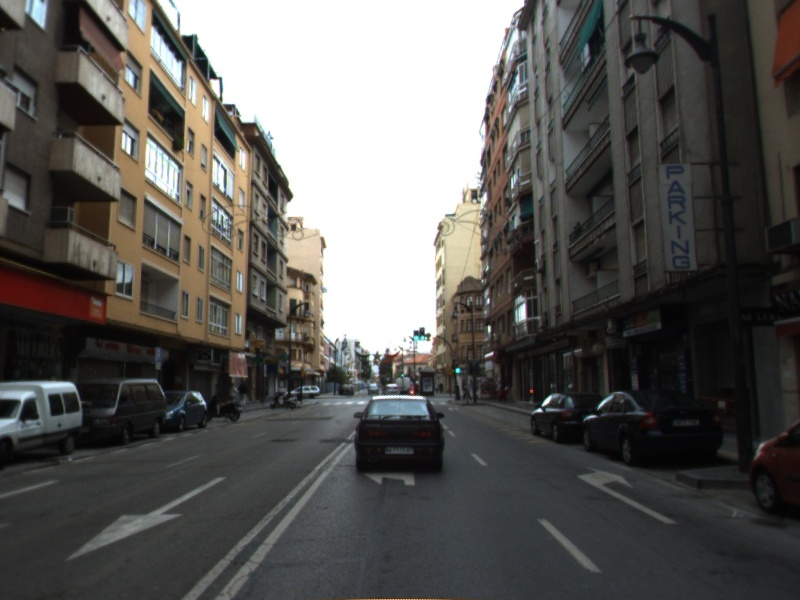RIGHT: (575, 465, 679, 526)
